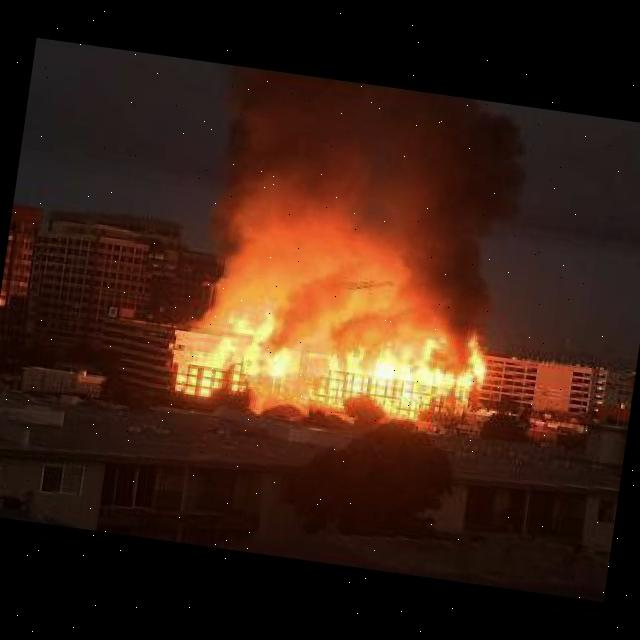fire: (182, 63, 540, 336), (162, 290, 496, 444)
